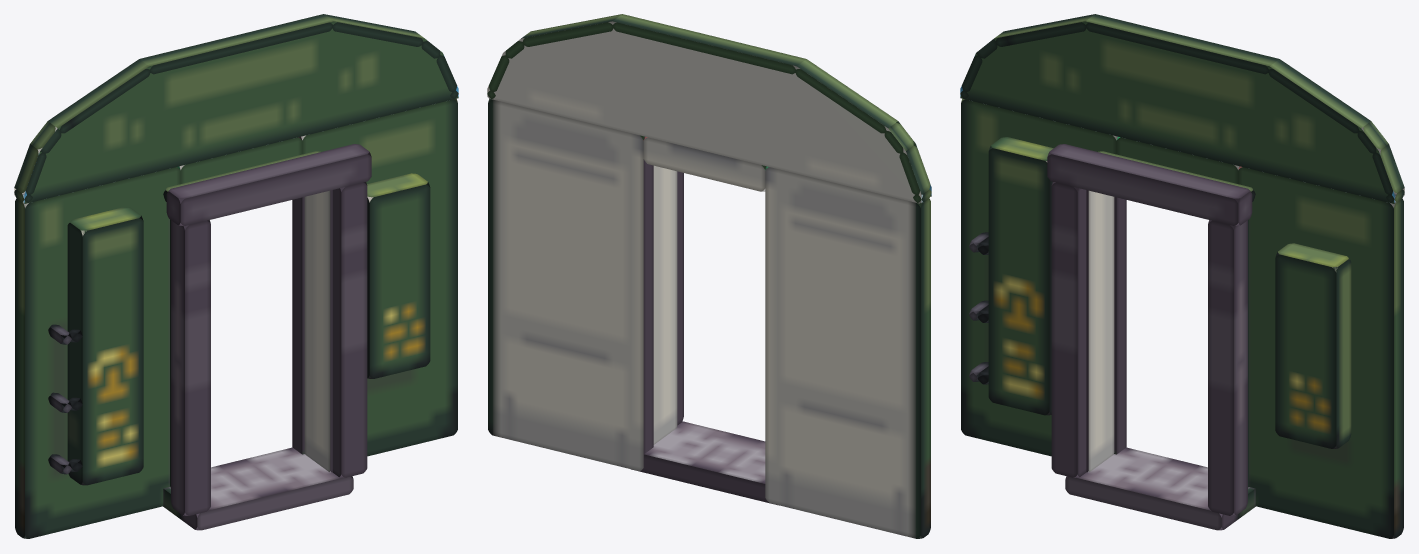
File: 22_end_face.obj
3 views of the same model, side by side, from view 1: azimuth 30°, elevation 25°; view 2: azimuth 150°, elevation 25°; view 3: azimuth 330°, elevation 25° (orthographic).
Visible parts, largest first — view 1: cube_selection_selection_selection_selection; view 2: cube_selection_selection_selection_selection; view 3: cube_selection_selection_selection_selection.
Part boxes in pixels (x1,y1,x2,y2): cube_selection_selection_selection_selection: (14,14,458,538); cube_selection_selection_selection_selection: (487,14,931,538); cube_selection_selection_selection_selection: (960,14,1404,538).
Bounding box in the file's own units: 3.13 × 3.05 × 0.557.
